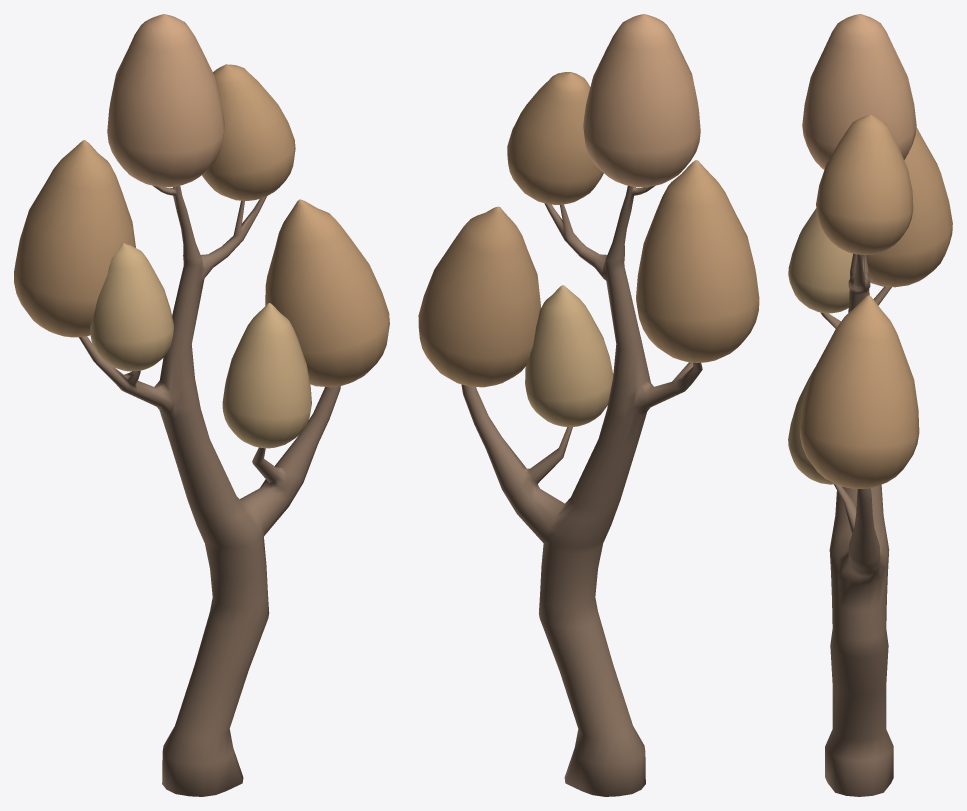
File: arbol naranja.fbx
3 renders of one model, left to right at view 1: azimuth 30°, elevation 25°; view 2: azimuth 150°, elevation 25°; view 3: azimuth 270°, elevation 25°, orthographic. The views are drawn at different scales.
Visible parts, largest first — view 1: pCylinder9, pSphere3, pSphere10, pSphere8, pSphere9, pSphere4, pSphere6; view 2: pCylinder9, pSphere10, pSphere8, pSphere3, pSphere9, pSphere4; view 3: pCylinder9, pSphere8, pSphere3, pSphere4, pSphere10, pSphere6, pSphere9.
Part boxes in pixels (x1,y1,x2,y2): pCylinder9: (79, 185, 340, 796); pSphere3: (107, 14, 224, 187); pSphere10: (14, 140, 135, 337); pSphere8: (265, 199, 389, 387); pSphere9: (222, 303, 311, 448); pSphere4: (202, 64, 295, 200); pSphere6: (90, 243, 173, 371); pCylinder9: (461, 185, 702, 796); pSphere10: (636, 160, 759, 362); pSphere8: (418, 206, 540, 387); pSphere3: (583, 14, 700, 187); pSphere9: (525, 285, 613, 427); pSphere4: (507, 72, 603, 204); pCylinder9: (820, 253, 893, 796); pSphere8: (799, 295, 919, 488); pSphere3: (802, 14, 916, 169); pSphere4: (816, 114, 913, 254); pSphere10: (866, 127, 952, 287); pSphere6: (788, 208, 852, 313); pSphere9: (788, 370, 835, 484).
Size of the model in its own units: 5.58 by 12.06 by 2.41.
